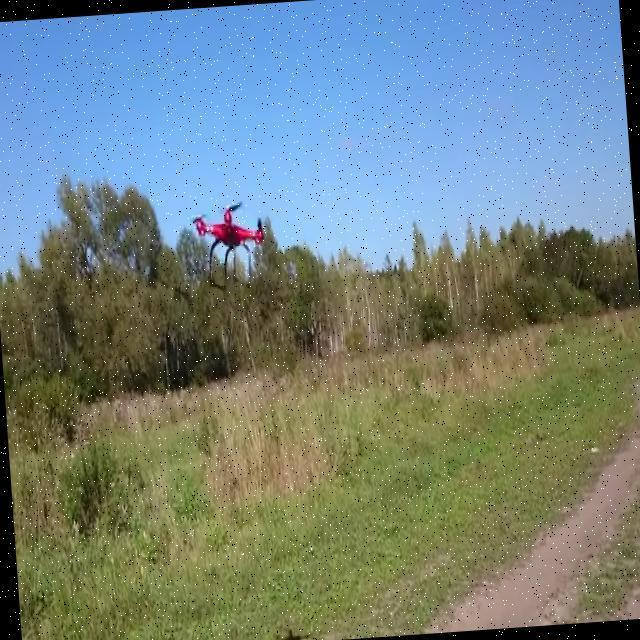Drons: (181, 196, 274, 297)
